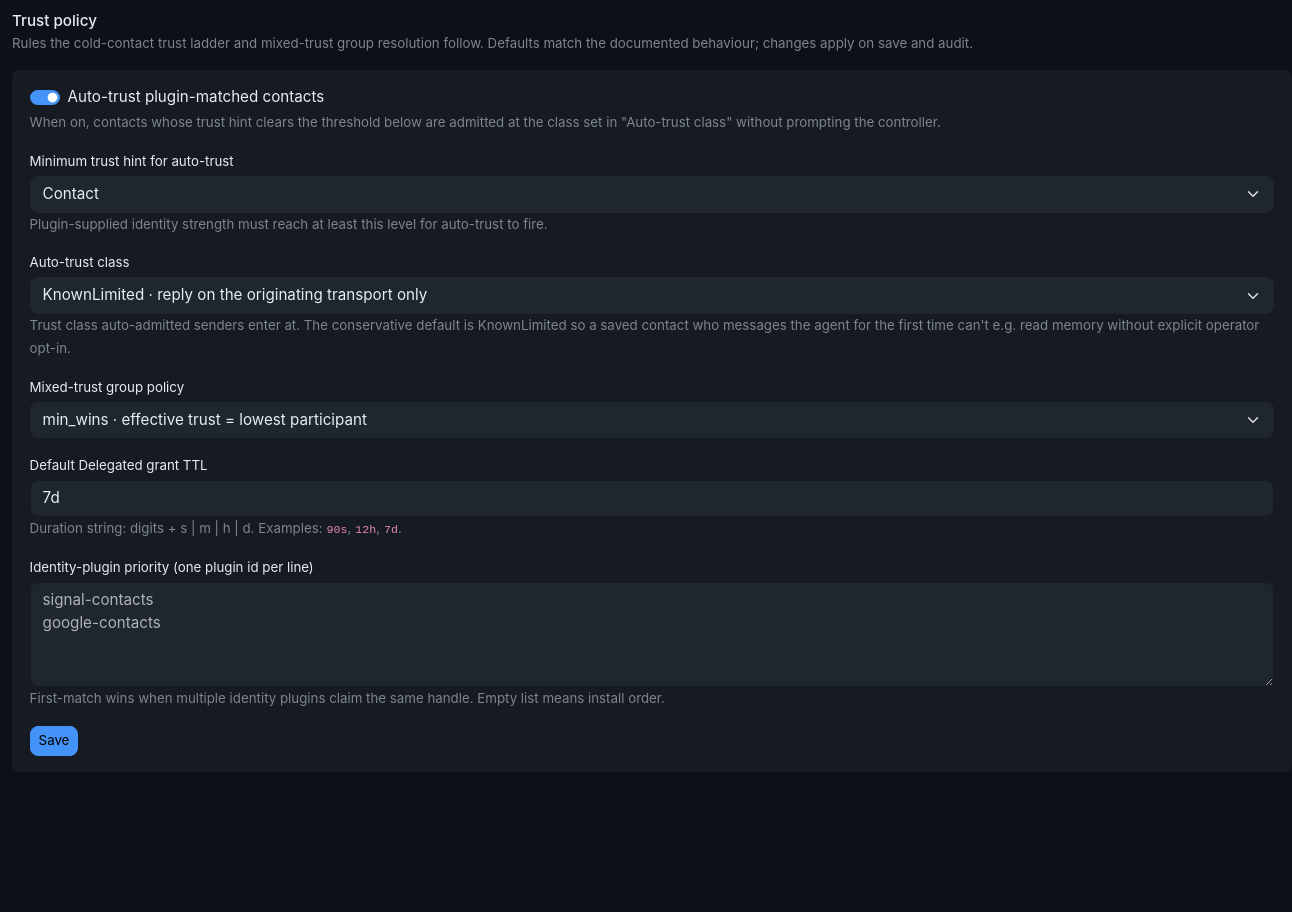
Test: TrustPolicyPage › rejects bad TTL locally without sending
Expected: the button with test id "trust-save" is shown, [30,726,78,756]
Type "yesterday" into the field with test id "trust-ttl".
click(652, 499); type("yesterday")  # box [30,480,1274,517]
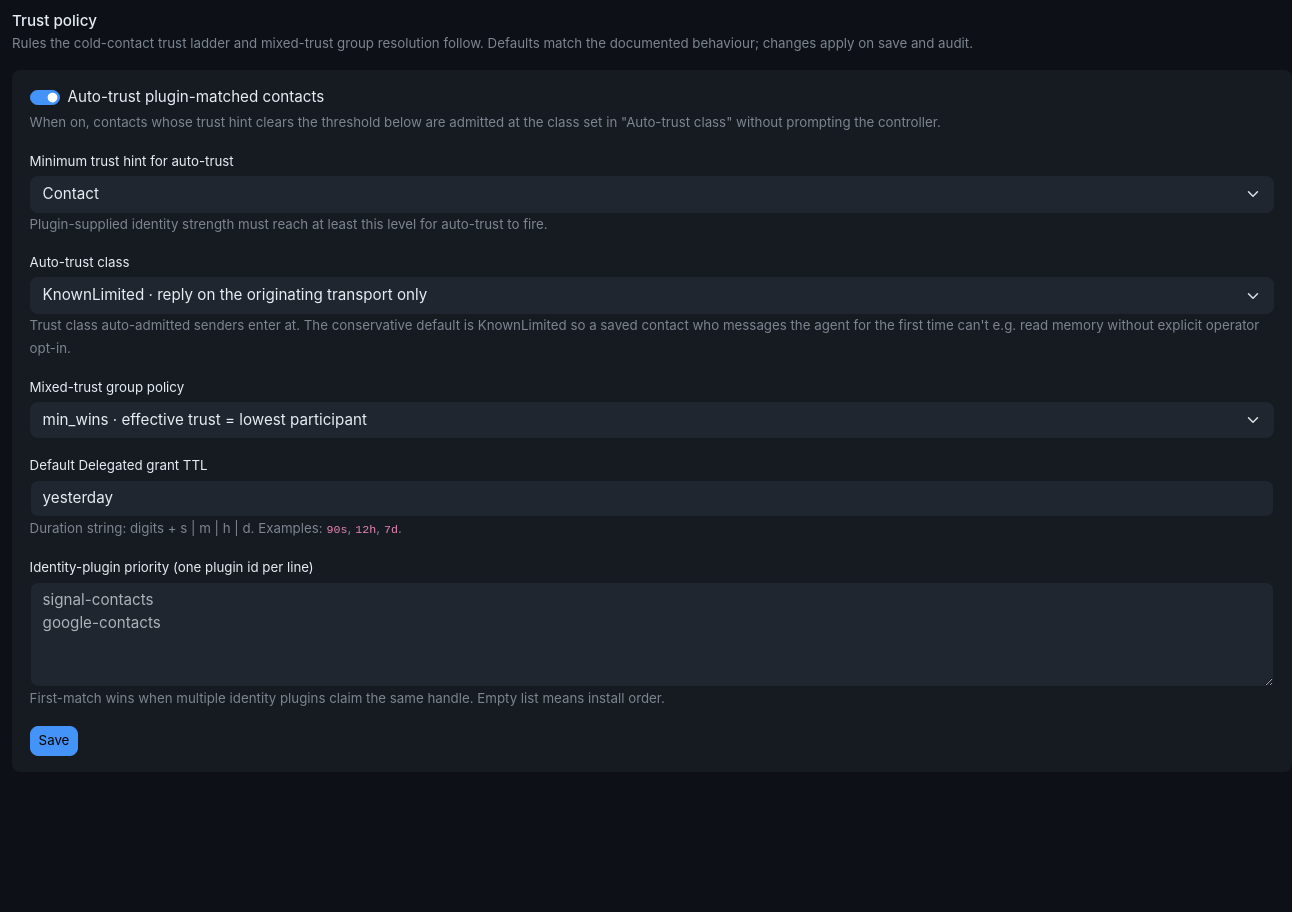
Click the button with test id "trust-save".
click(54, 741)  # box [30,726,78,756]
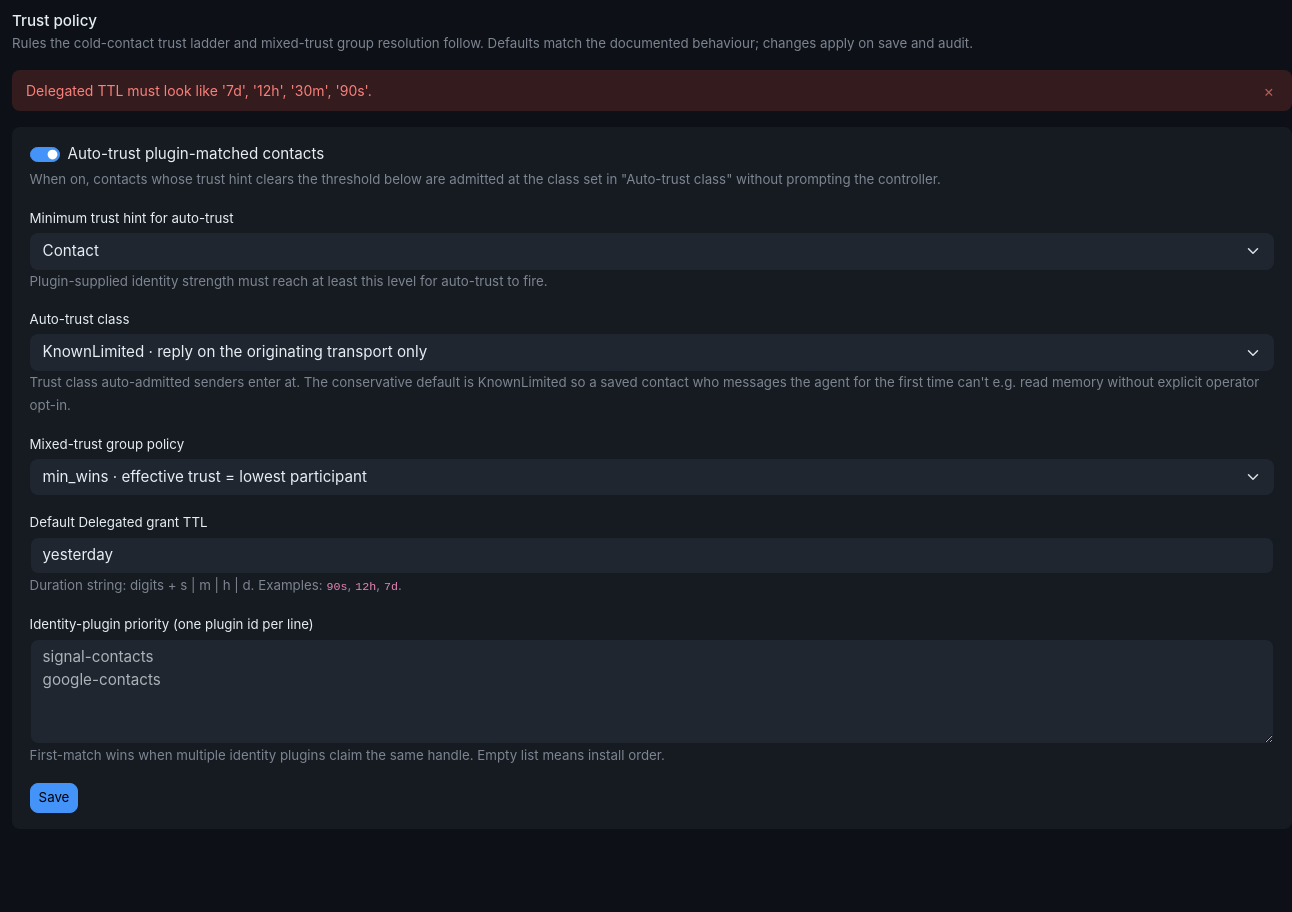
Expected: the text "Delegated TTL must look like '7d', '12h', '30m', '90s'." is shown, [26,80,372,101]
